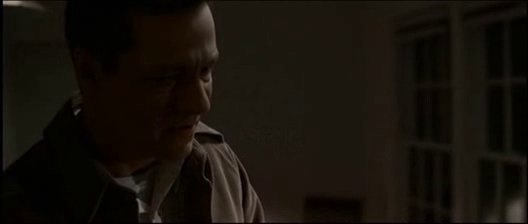cu: (1, 1, 528, 224)
face: (131, 32, 220, 176)
person: (1, 1, 267, 224)
